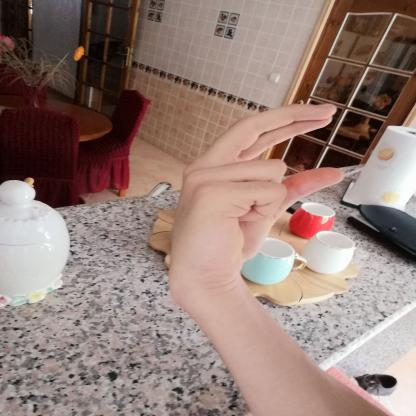DHELL: (159, 92, 355, 291)
